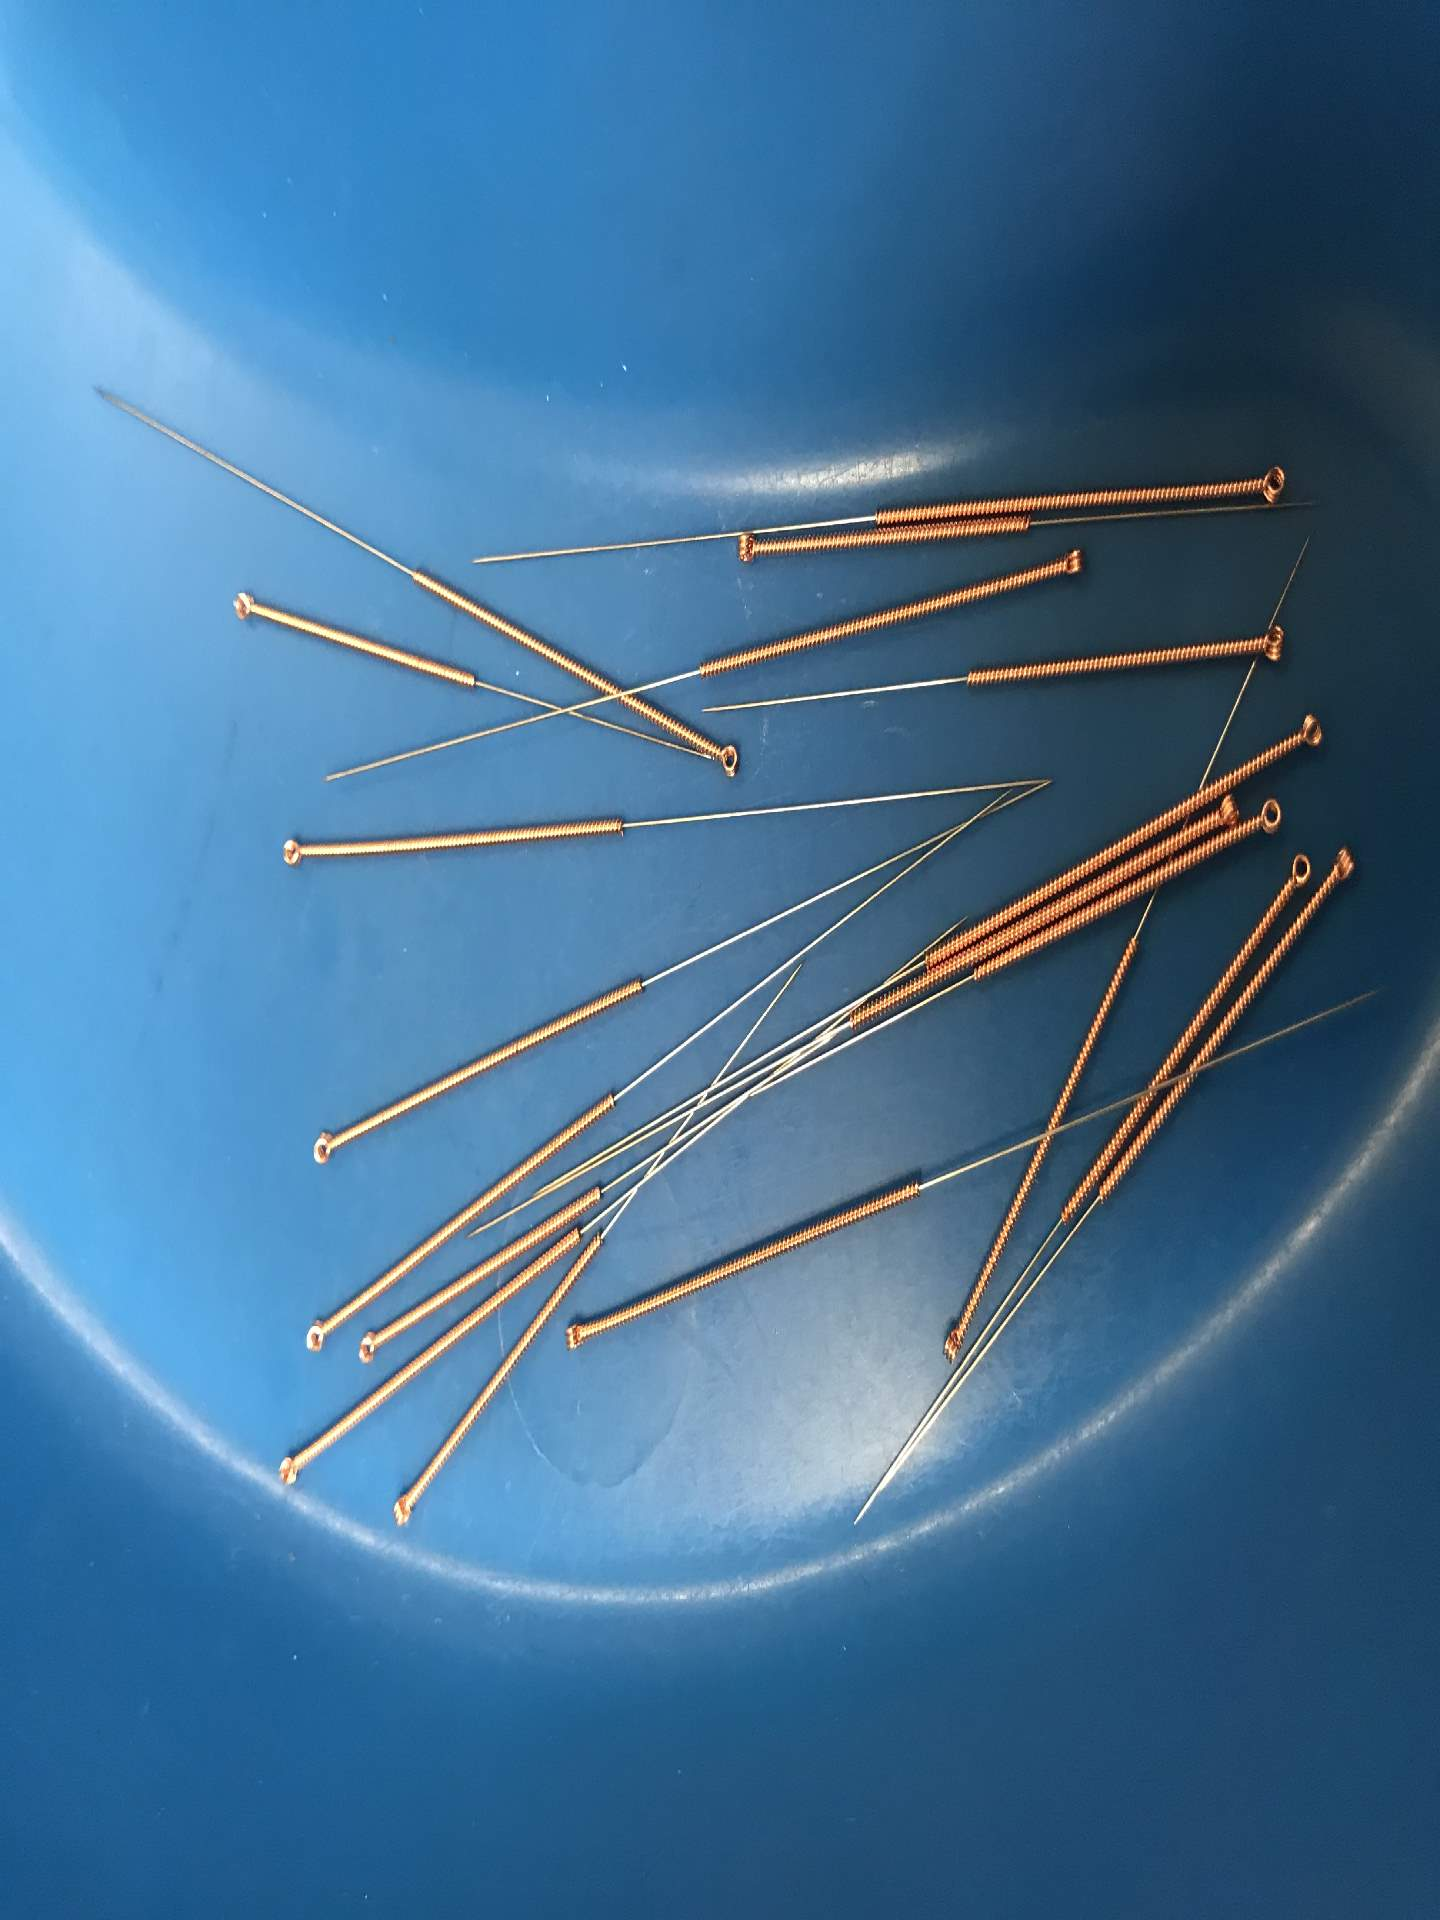needle: (1246, 457, 1293, 509), (1287, 705, 1330, 760), (1249, 617, 1293, 668), (703, 735, 749, 782), (1324, 836, 1361, 892), (272, 828, 313, 877), (306, 1122, 342, 1173), (1249, 792, 1287, 841), (271, 1445, 309, 1494), (298, 1308, 334, 1358), (728, 525, 765, 571), (1283, 844, 1316, 897), (224, 584, 262, 627), (349, 1324, 386, 1370), (386, 1488, 421, 1534), (1053, 540, 1089, 584), (936, 1318, 968, 1368), (560, 1315, 591, 1358), (1213, 791, 1243, 831)
